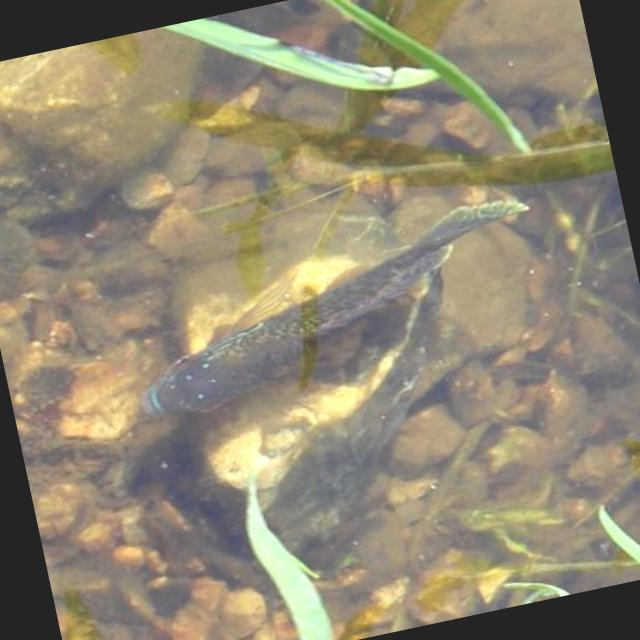Gunes Levregi: (110, 189, 562, 429)
